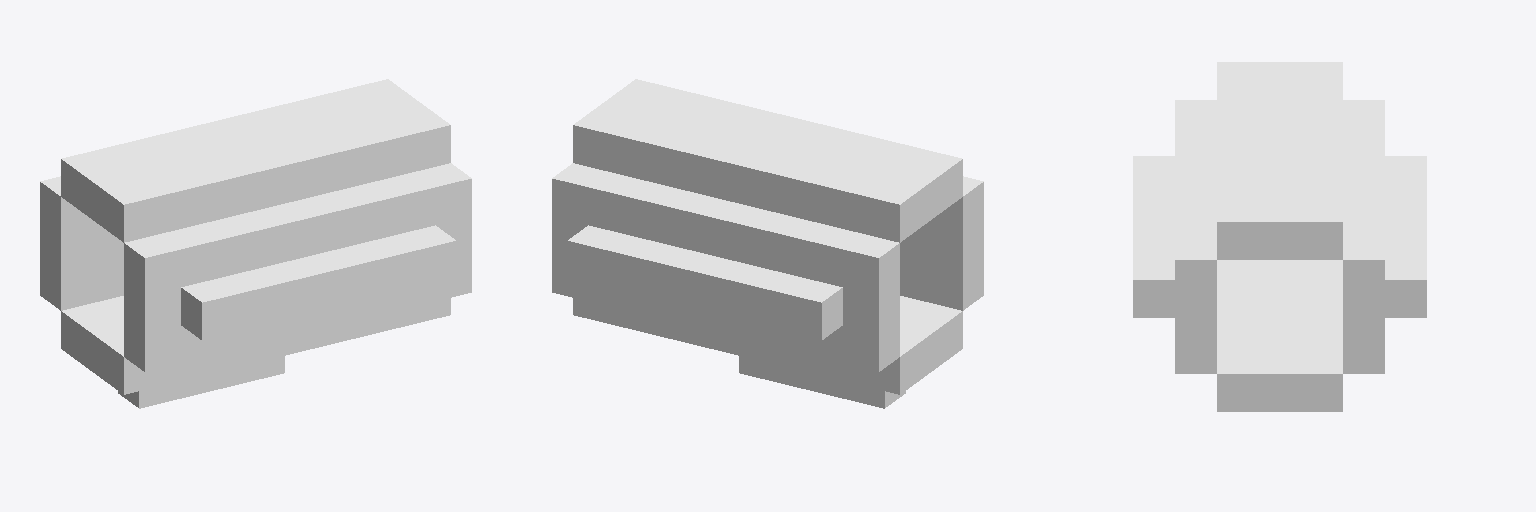
Rendered from scope.obj.
3 renders of one model, left to right at view 1: azimuth 30°, elevation 25°; view 2: azimuth 150°, elevation 25°; view 3: azimuth 270°, elevation 25°, orthographic.
Size of the model in its own units: 9 by 6 by 7.